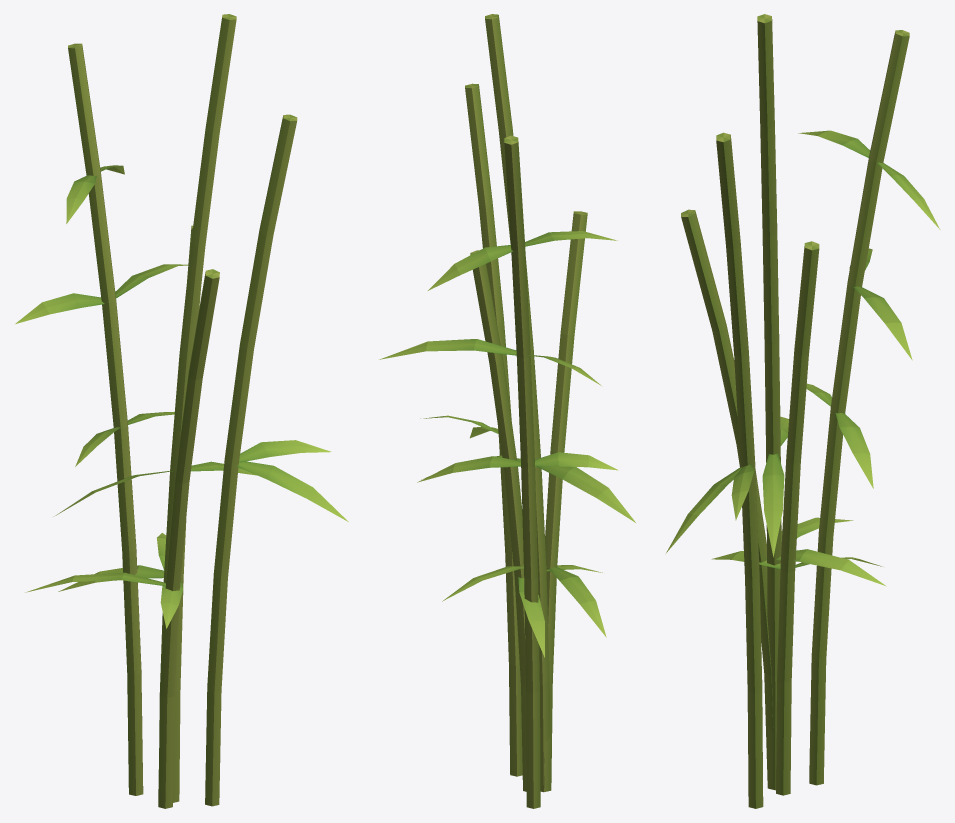
Rendered from bamboo_small.glb.
3 views of the same model, side by side, from view 1: azimuth 30°, elevation 25°; view 2: azimuth 150°, elevation 25°; view 3: azimuth 270°, elevation 25° (orthographic). The views are drawn at different scales.
Visible parts, largest first — view 1: bamboo_small_solid, bamboo_small_leaf; view 2: bamboo_small_solid, bamboo_small_leaf; view 3: bamboo_small_solid, bamboo_small_leaf.
Boxes of the visible parts, left/top/right/bottom form: bamboo_small_solid: left=68, top=14, right=297, bottom=808; bamboo_small_leaf: left=15, top=165, right=348, bottom=628; bamboo_small_solid: left=465, top=14, right=587, bottom=808; bamboo_small_leaf: left=379, top=231, right=635, bottom=657; bamboo_small_solid: left=681, top=14, right=909, bottom=808; bamboo_small_leaf: left=666, top=130, right=940, bottom=586.
Size of the model in its own units: 1.56 by 4.58 by 1.43.
